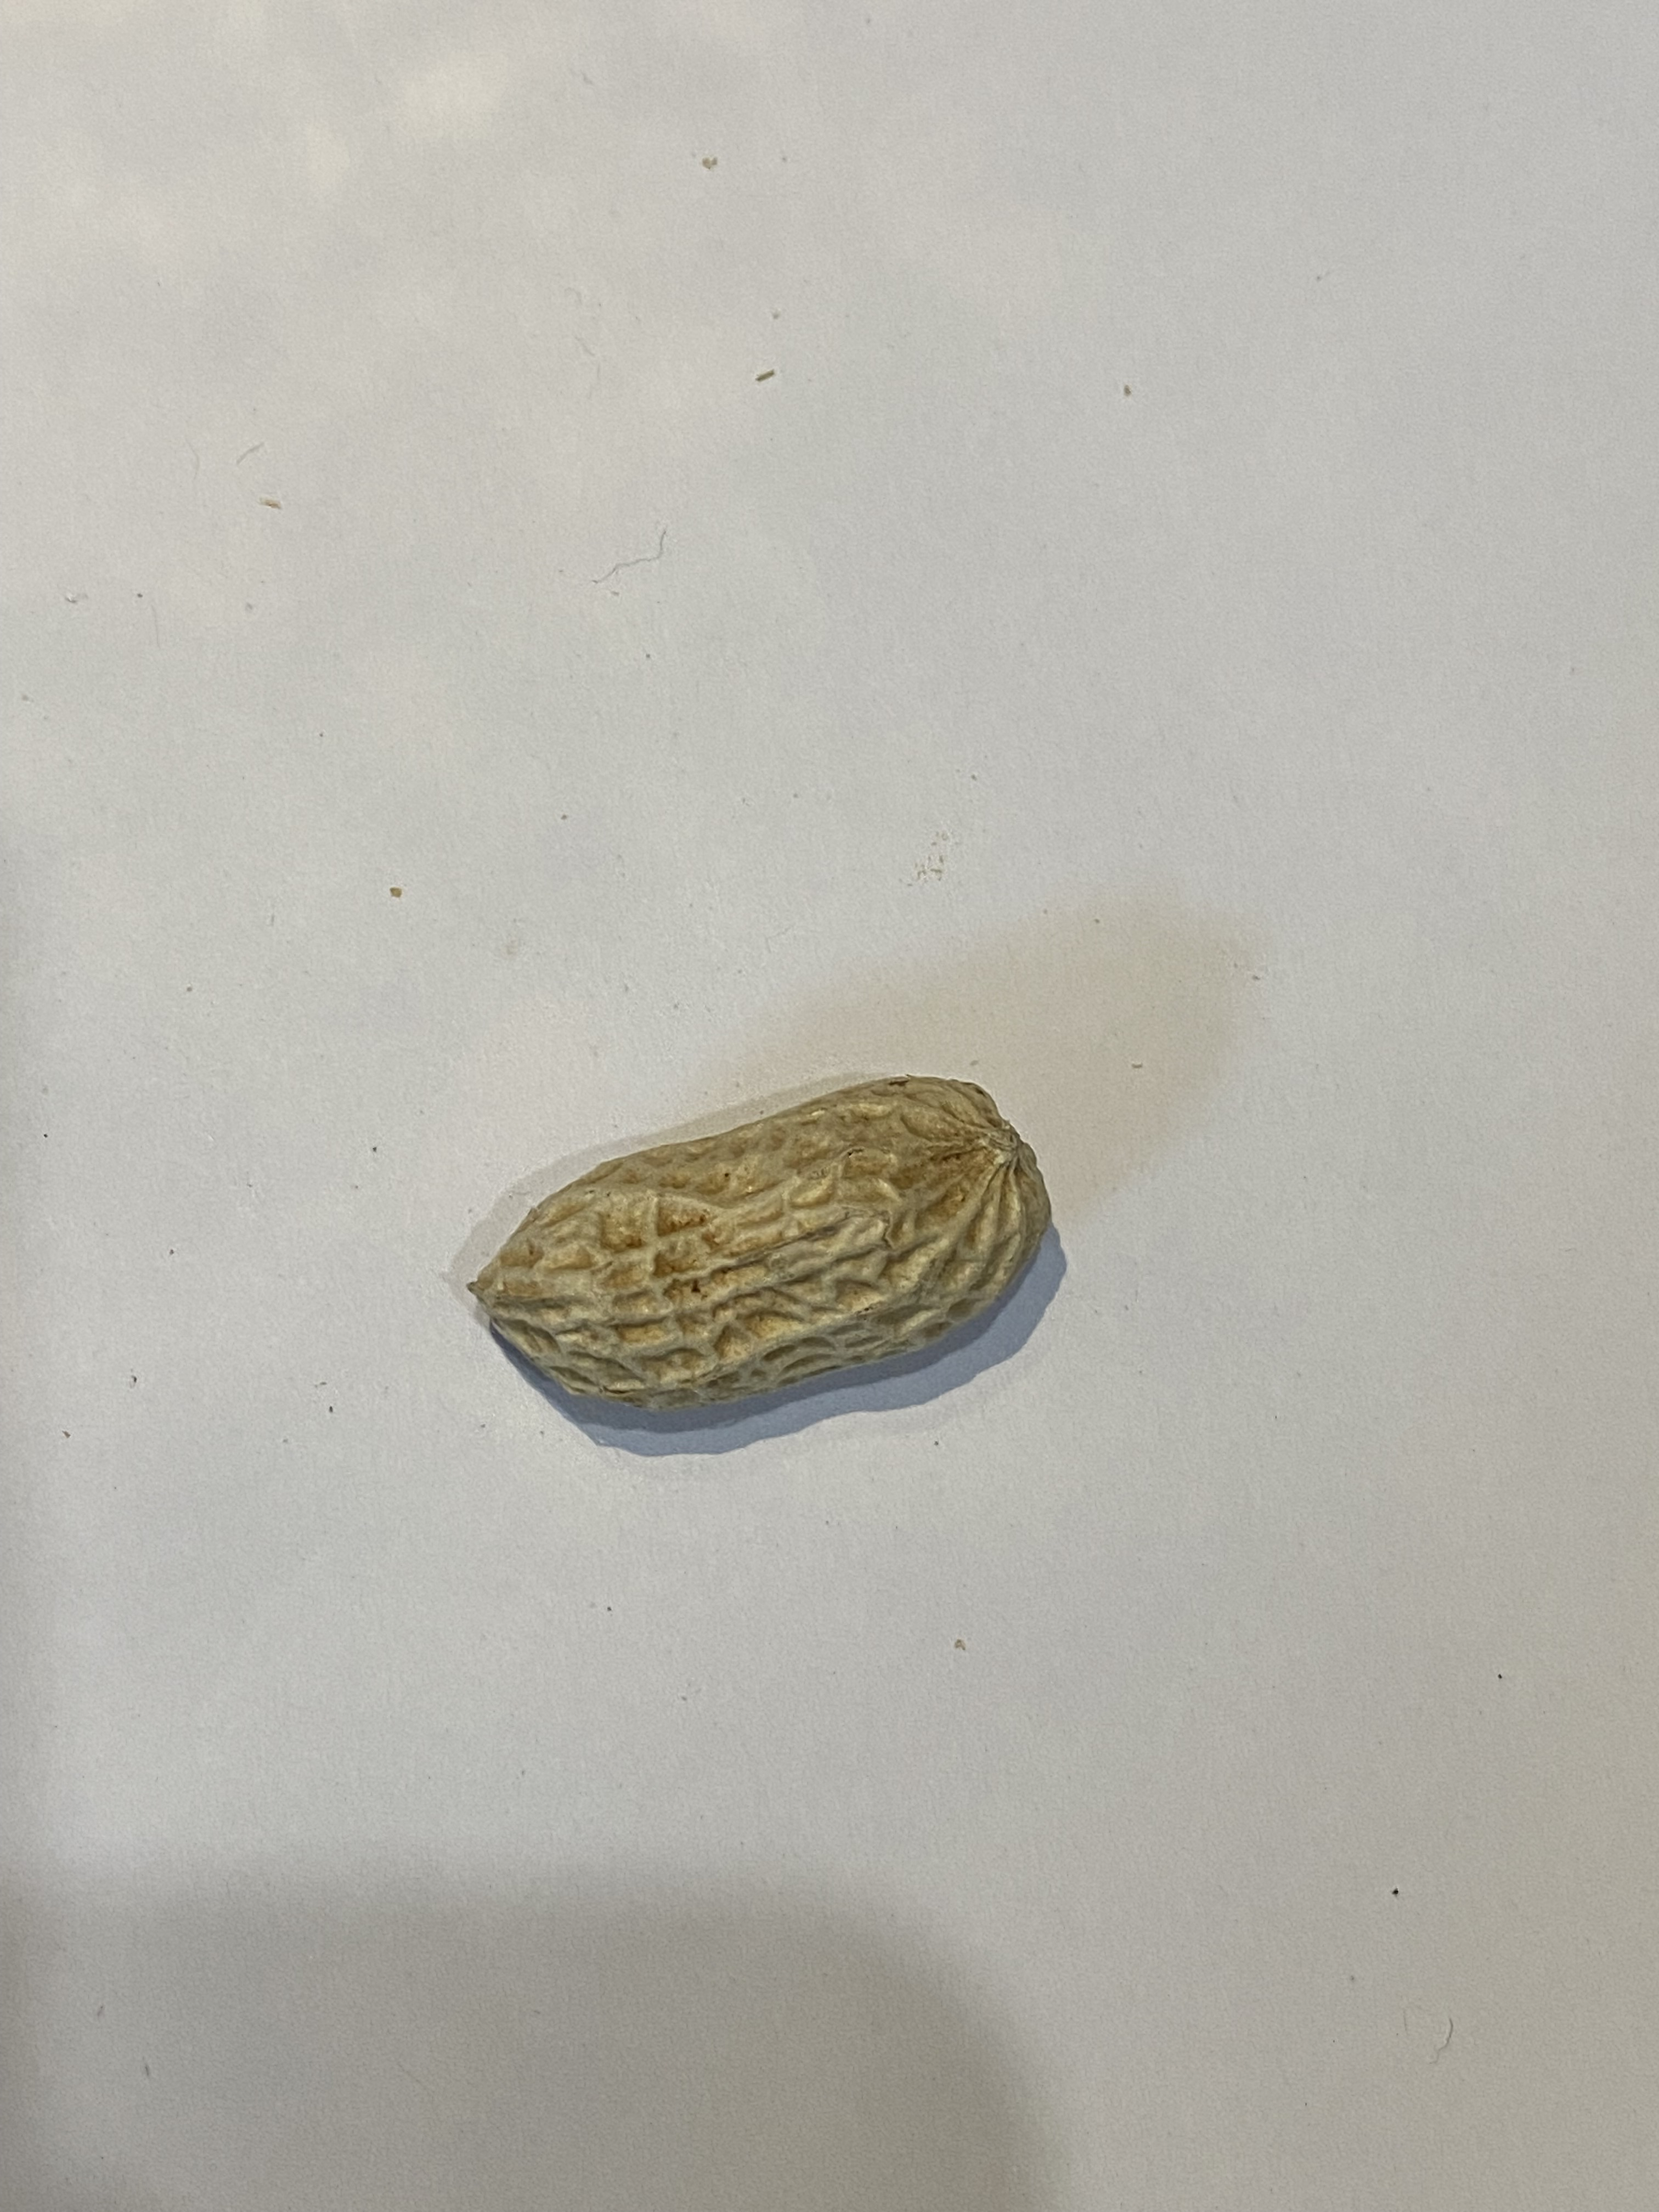kacang2: (443, 1054, 1054, 1446)
